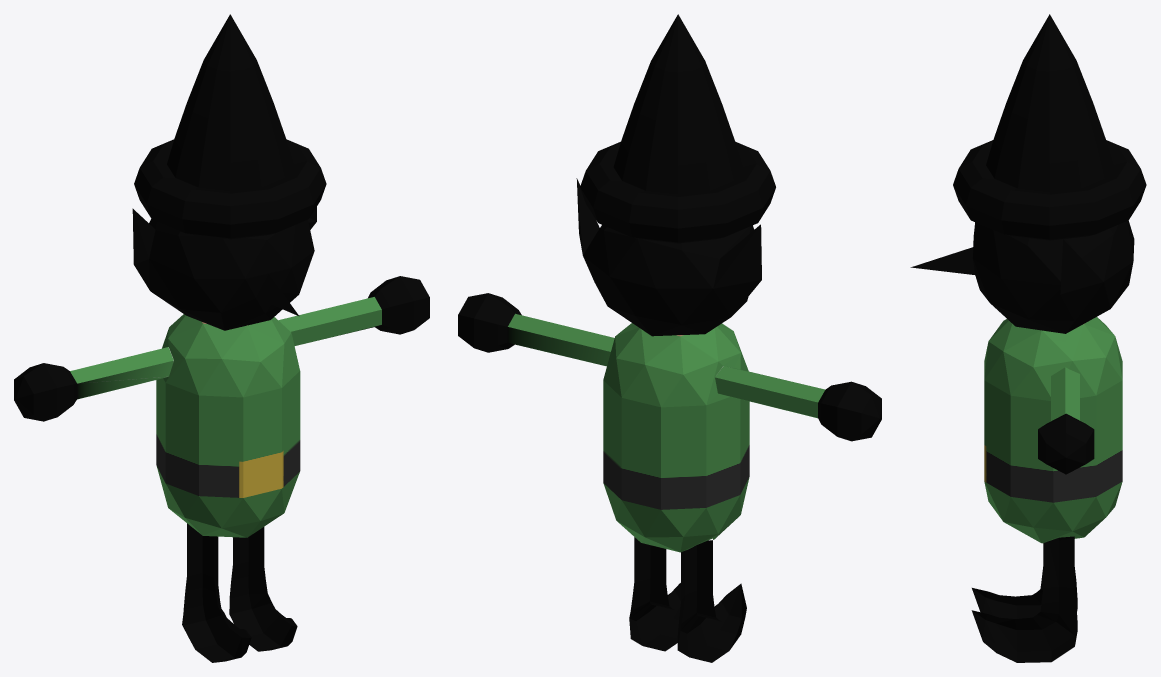
Rendered from elf.gltf.
3 renders of one model, left to right at view 1: azimuth 30°, elevation 25°; view 2: azimuth 150°, elevation 25°; view 3: azimuth 270°, elevation 25°, orthographic.
Visible parts, largest first — view 1: Elf; view 2: Elf; view 3: Elf.
Boxes of the visible parts, box(x1,y1,x2,y2) form: Elf: box(14, 14, 429, 662); Elf: box(458, 14, 881, 662); Elf: box(910, 14, 1146, 662).
Bounding box in the file's own units: 4.96 × 7.22 × 2.44.
1 material, 1 textured.
